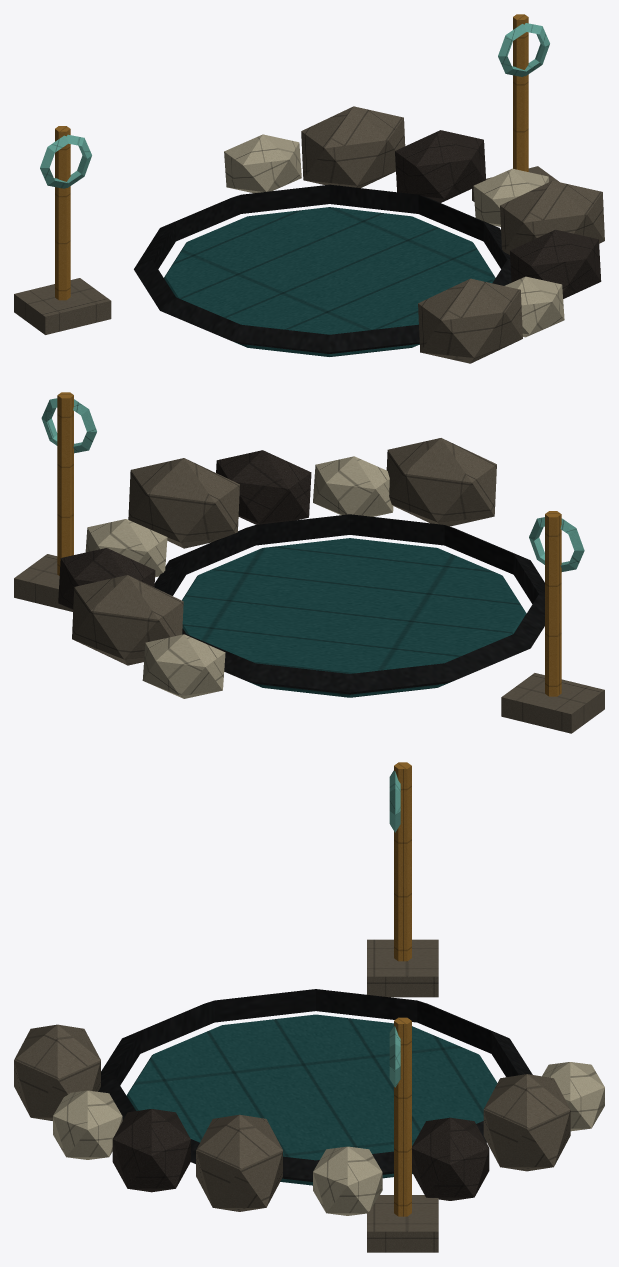
The model's file is crater-rim-set.e8.glb.
3 views of the same model, one above another, from view 1: azimuth 30°, elevation 25°; view 2: azimuth 150°, elevation 25°; view 3: azimuth 270°, elevation 25° (orthographic). The views are drawn at different scales.
Parts seen in each view (by area): view 1: CraterRimSetE8; view 2: CraterRimSetE8; view 3: CraterRimSetE8.
Part boxes in pixels (box(x1,y1,x2,y2)): CraterRimSetE8: box(14, 14, 604, 363); CraterRimSetE8: box(14, 392, 604, 733); CraterRimSetE8: box(14, 762, 604, 1252).
Bounding box in the file's own units: 2.7 × 0.92 × 2.31.
Materials: 1 (1 with a texture image).
